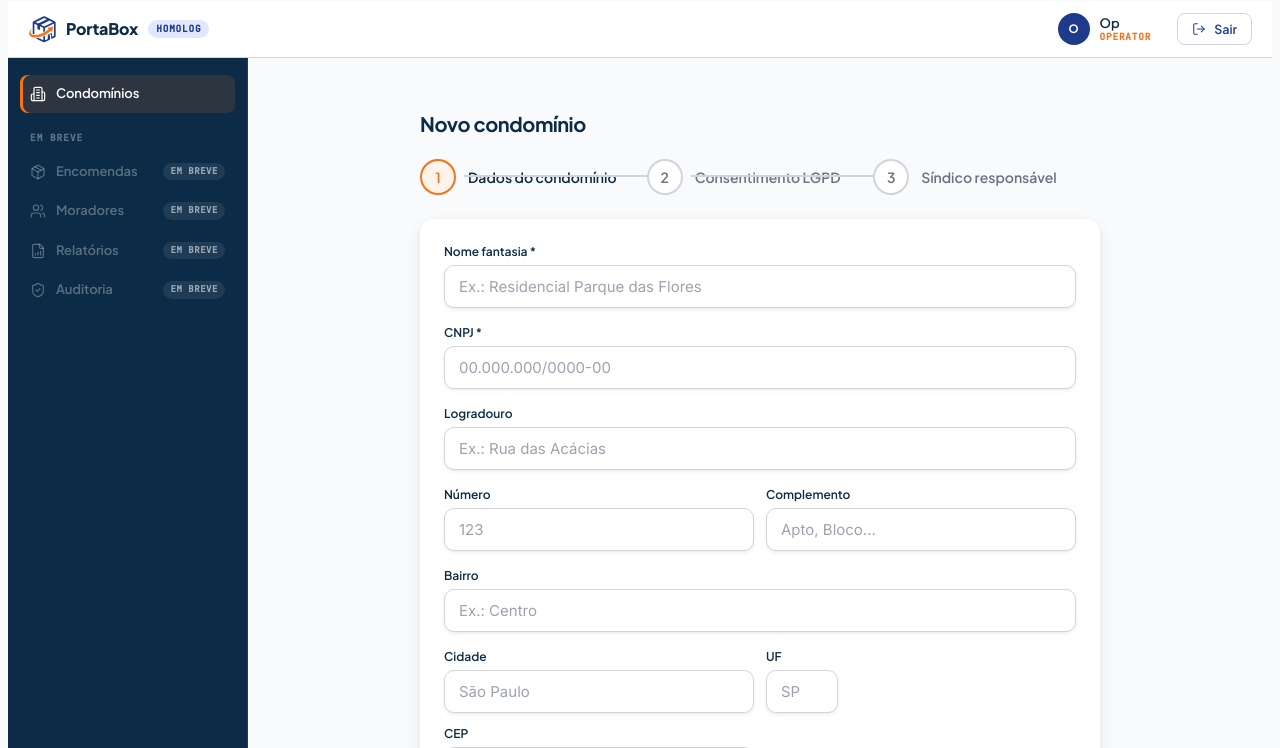
it: NovoCondominioPage — validações de etapa 1 › impede avançar e mostra "CNPJ inválido" quando CNPJ não está preenchido
Expected: the heading "Novo condomínio" is shown, 420,111 -> 586,136
Type "Residencial Teste" into the field labelled "Nome fantasia *".
click(760, 286); type("Residencial Teste")  # box 444,265 -> 1076,308
(page scrolled)
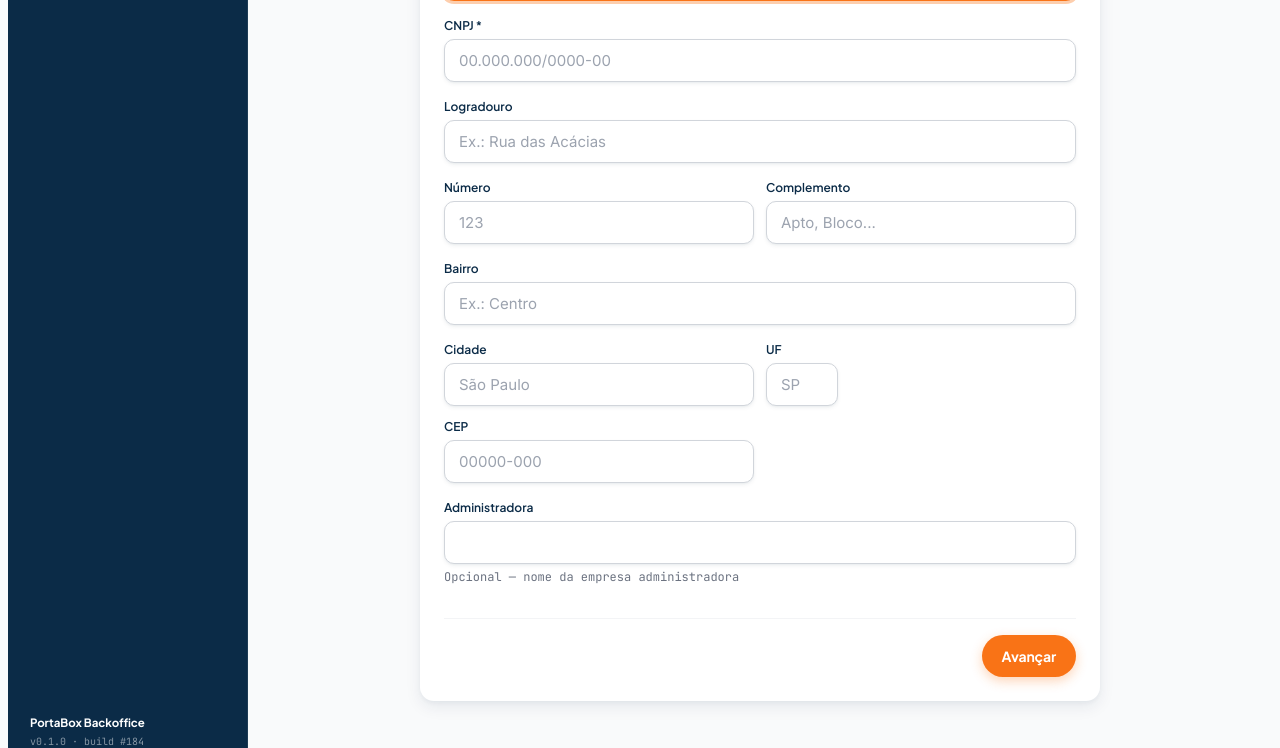
Note: leave CNPJ empty
Click the button "Avançar".
click(1029, 656)  # box 982,635 -> 1076,677
(page scrolled)
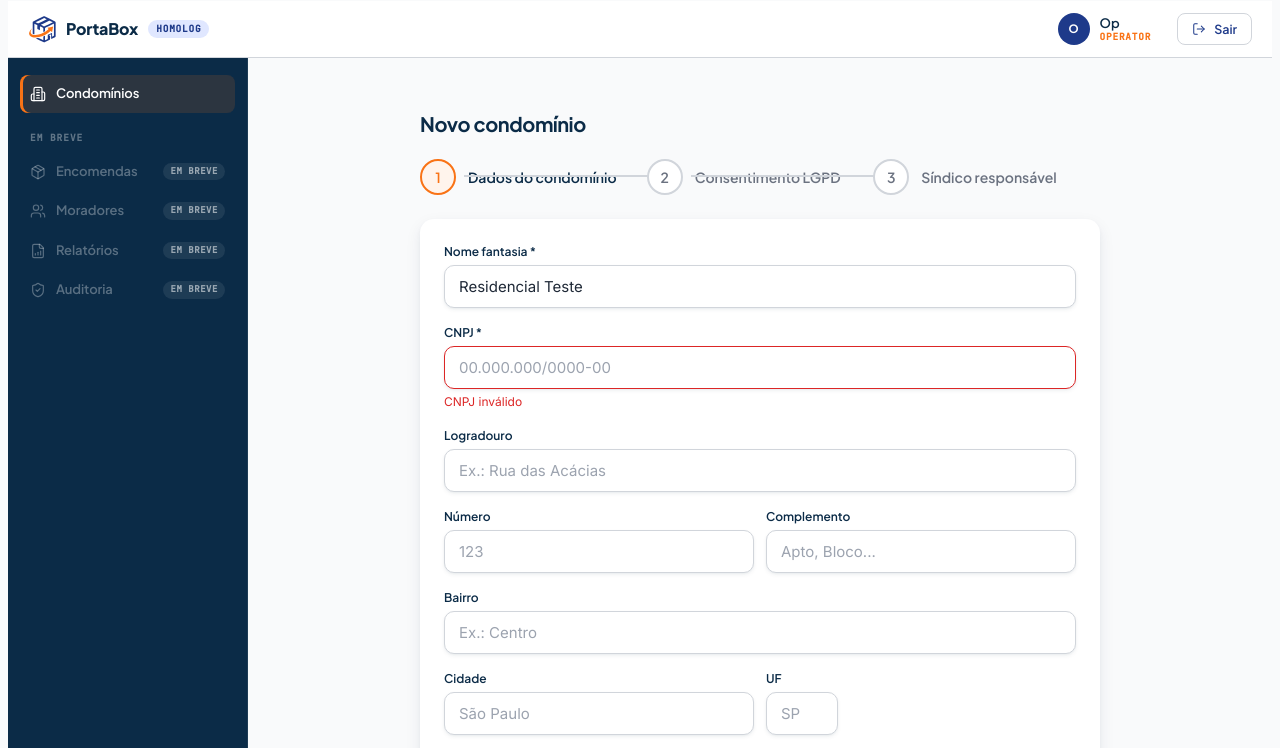
Result: the text "CNPJ inválido" is shown at 444,394 -> 522,409
